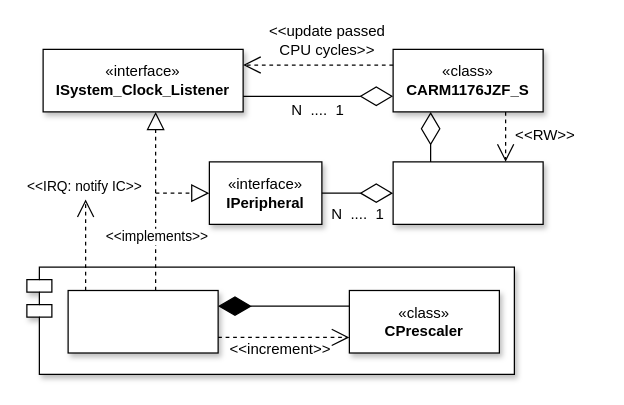
Image size: 624x405. Some labels were removed from this diagram. The centre of each missing label's shape, as x and y in pixels:
«class» CARM_Timer: pixel 144 323
«class» CBus: pixel 469 194
